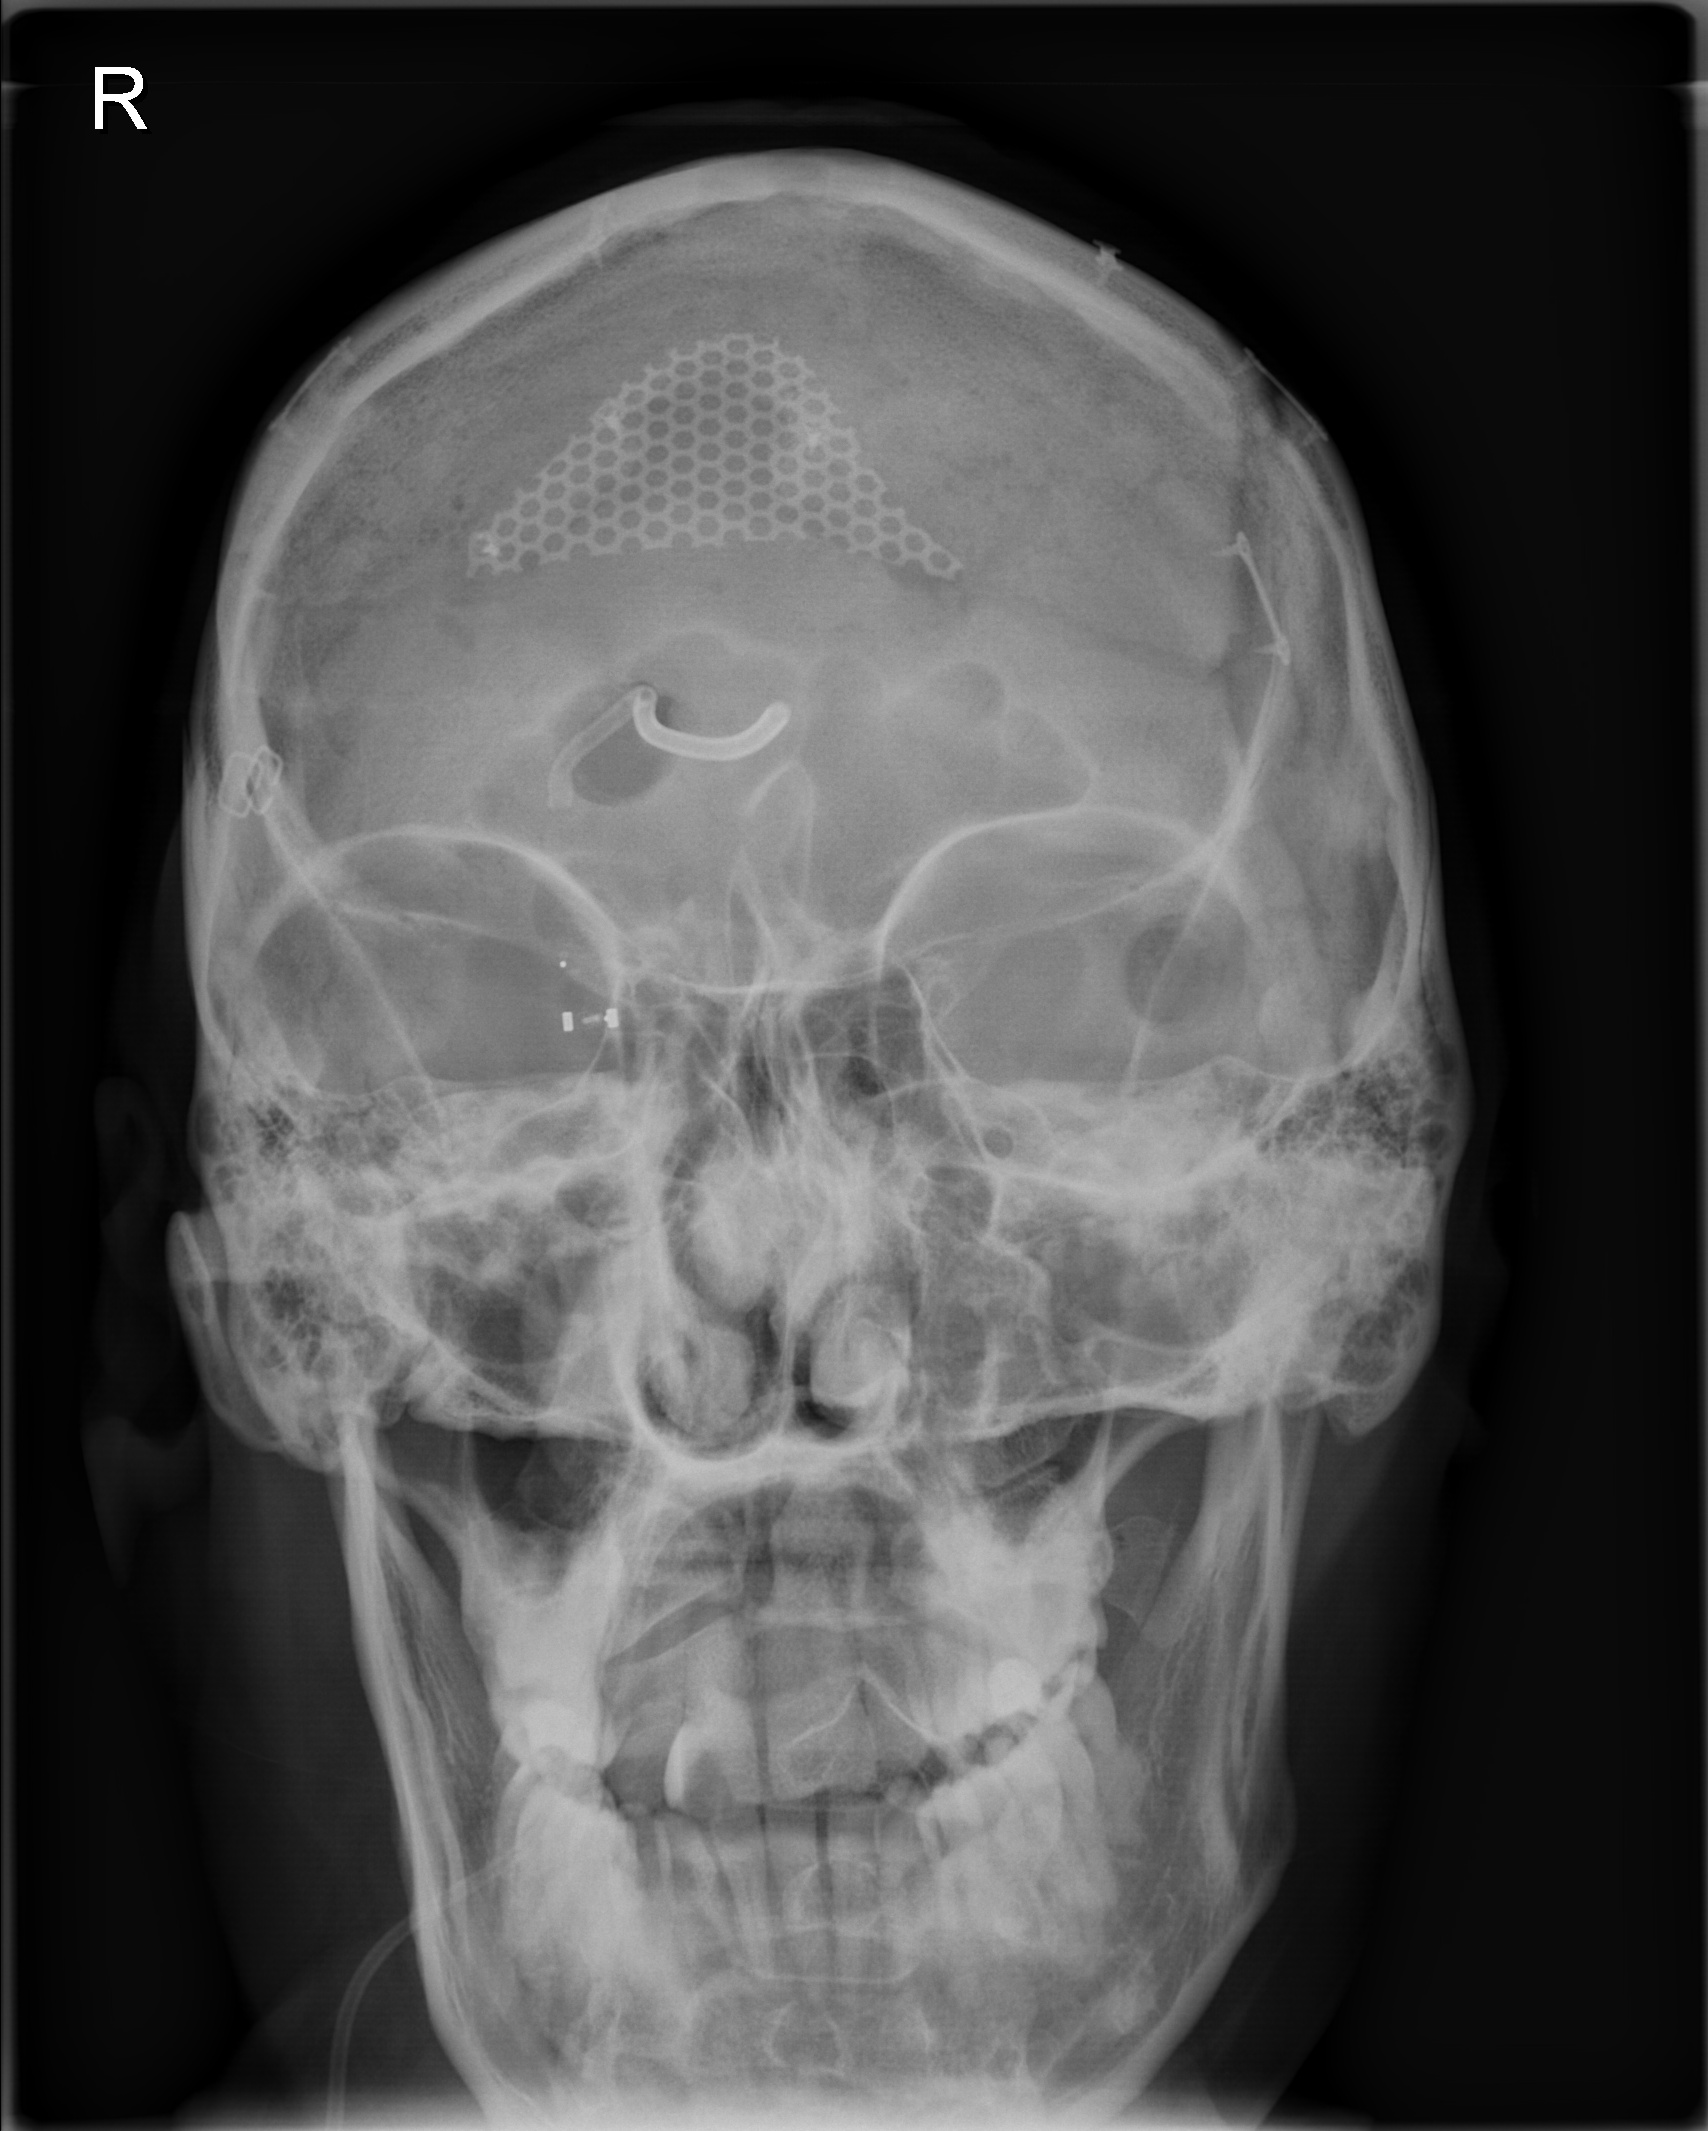Codman Certas: (540, 946, 636, 1077)
